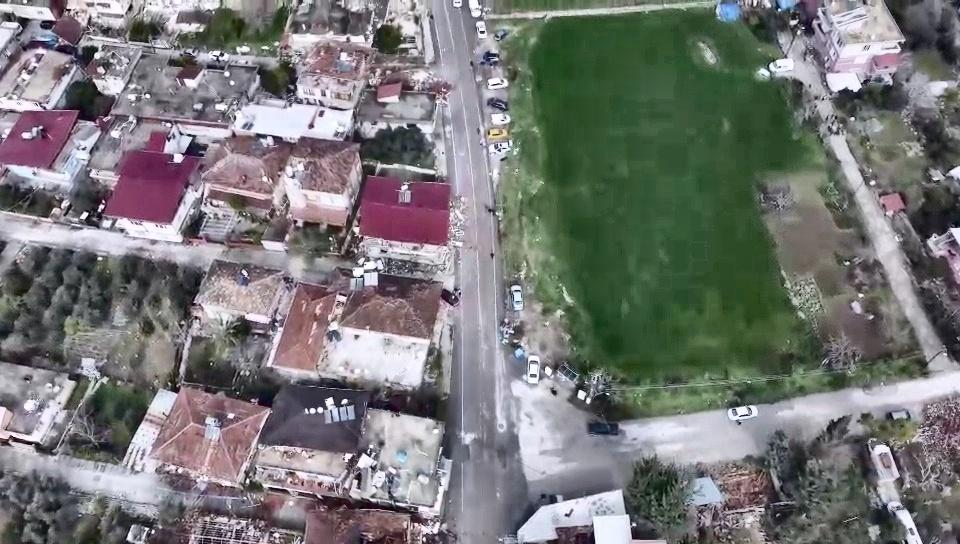kapali: (137, 473, 292, 528), (289, 501, 471, 543)
